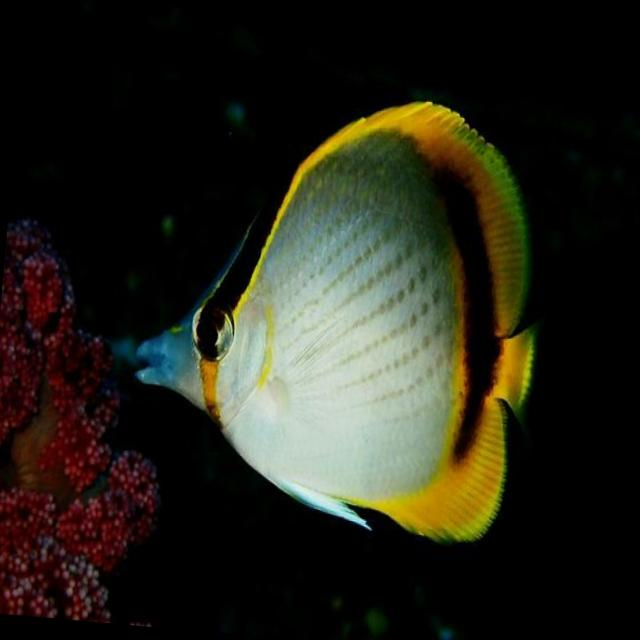ButterflyFish: (120, 79, 554, 548)
